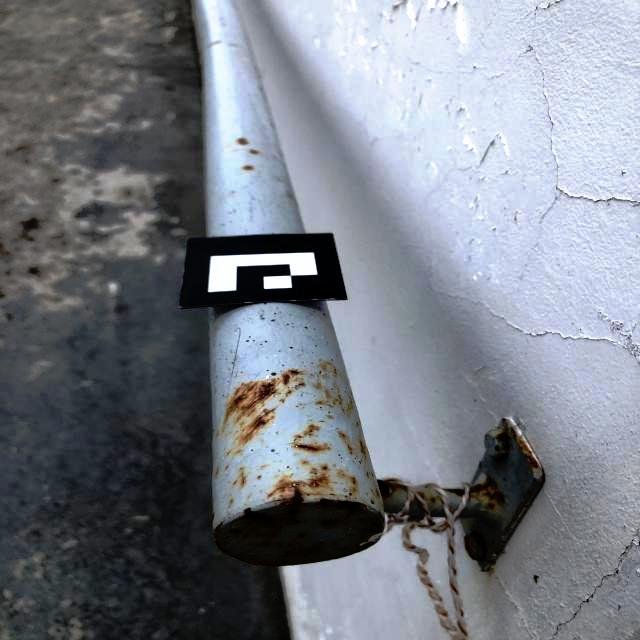Corrosion: (214, 464, 386, 566), (222, 368, 305, 447), (313, 381, 355, 417), (510, 427, 540, 469), (292, 423, 329, 453), (470, 478, 505, 508), (337, 431, 367, 459), (463, 530, 488, 562), (504, 503, 526, 532), (376, 479, 403, 499), (232, 467, 249, 489), (496, 427, 511, 451), (316, 361, 338, 376), (443, 488, 464, 496), (420, 492, 436, 502), (226, 450, 244, 457), (495, 454, 508, 463), (237, 137, 249, 146), (374, 482, 380, 496), (243, 164, 254, 170), (366, 470, 374, 478), (250, 149, 259, 155), (501, 417, 510, 423), (225, 465, 230, 471), (370, 499, 375, 505), (494, 445, 499, 451), (215, 469, 219, 475), (488, 560, 494, 564), (303, 460, 307, 465), (541, 475, 544, 481), (527, 490, 532, 493), (319, 420, 324, 422)
